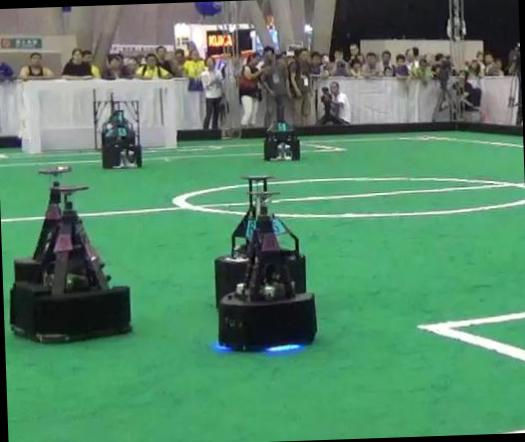goal: (24, 81, 40, 152), (163, 81, 175, 148)
robot: (9, 166, 131, 342), (218, 180, 316, 350), (214, 176, 305, 306), (93, 89, 141, 167), (263, 98, 299, 159)
